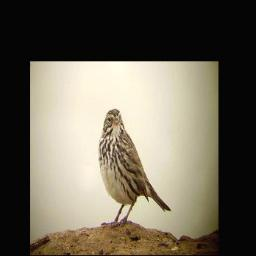Sparrow: (98, 108, 172, 229)
